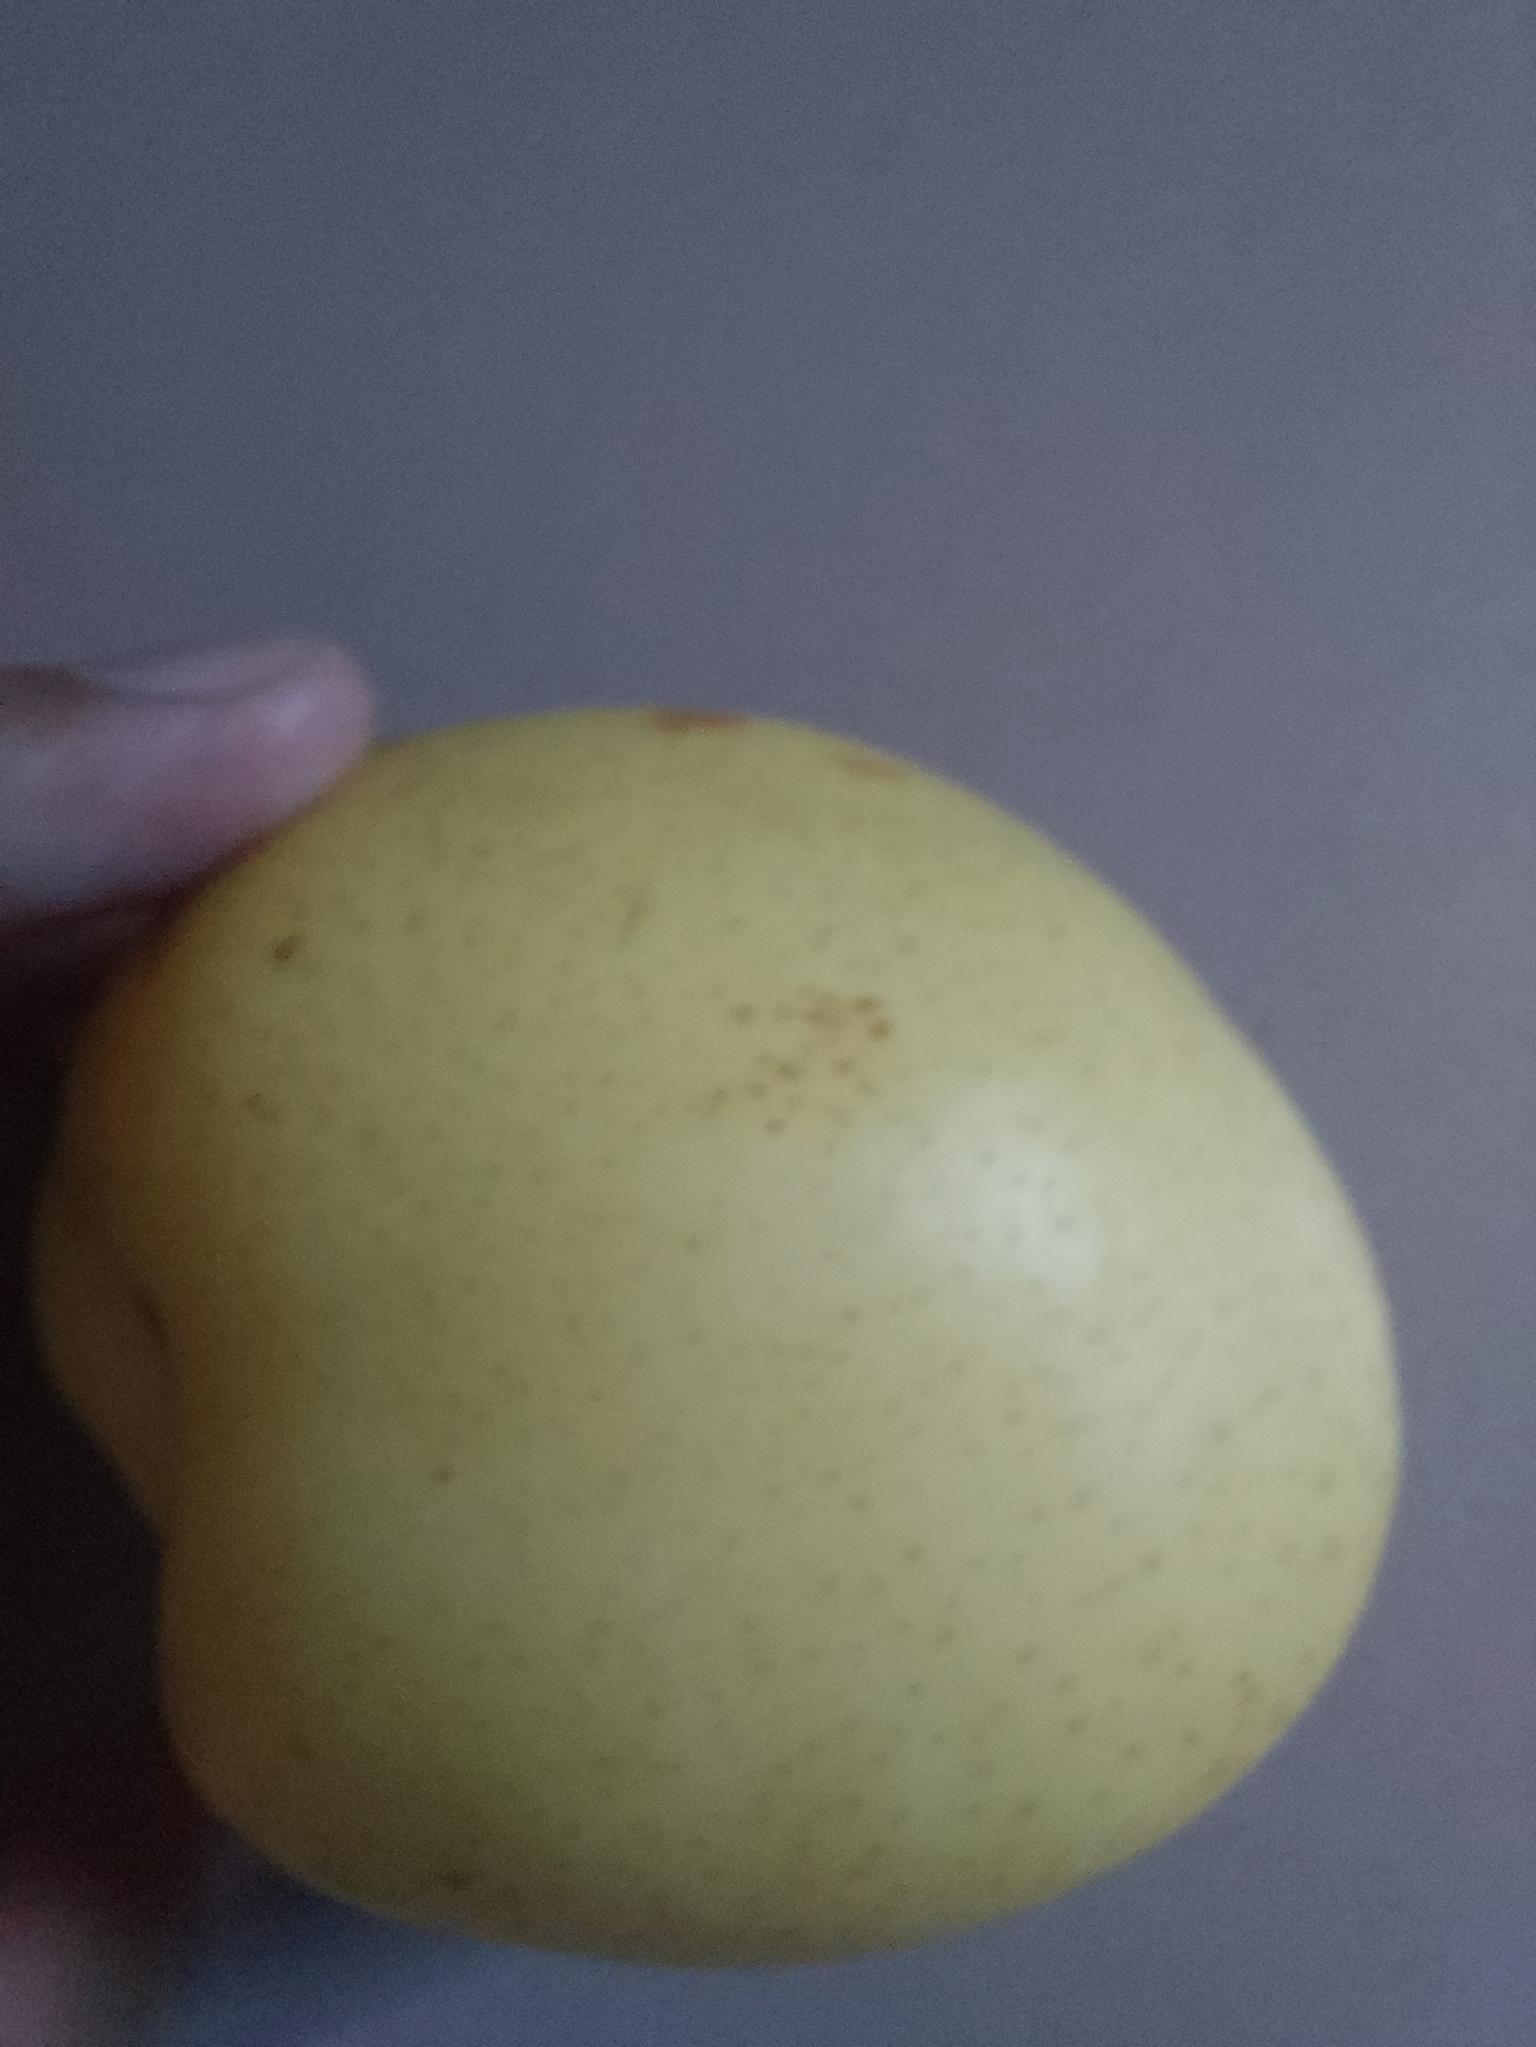Good Pear: (0, 794, 1450, 2047)
